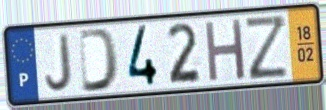2: (168, 21, 204, 88)
4: (126, 23, 161, 90)
D: (77, 26, 122, 95)
H: (203, 16, 248, 85)
J: (43, 31, 74, 94)
Z: (243, 13, 290, 83)
